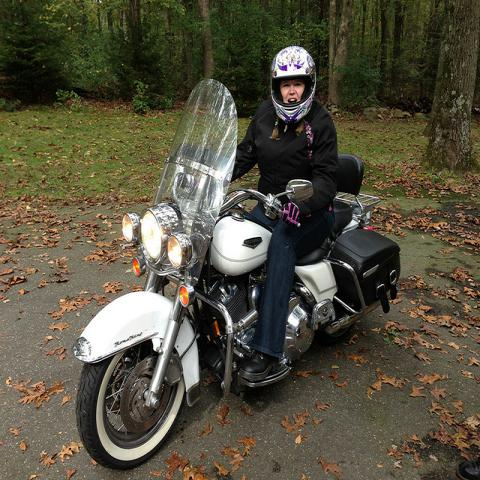motorcycle: (71, 74, 400, 468)
